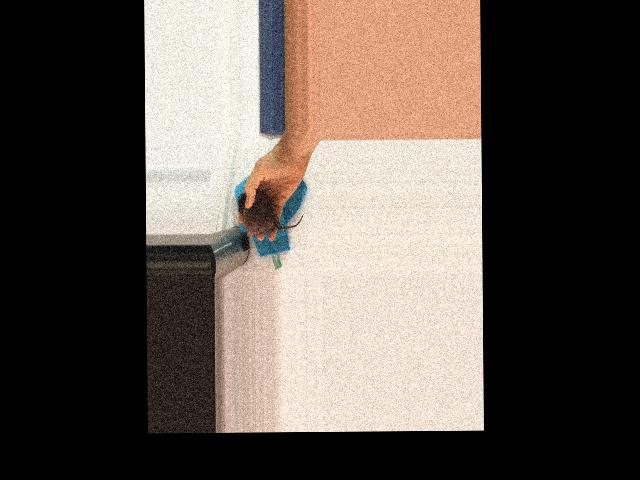beet: (237, 188, 303, 235)
